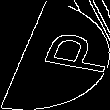P_W: (10, 30, 100, 80)
